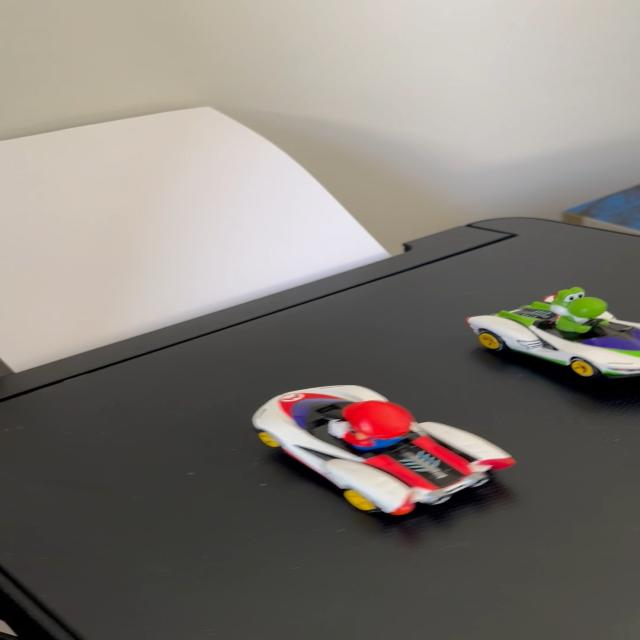mario: (239, 387, 536, 528)
yoshi: (457, 284, 640, 379)
